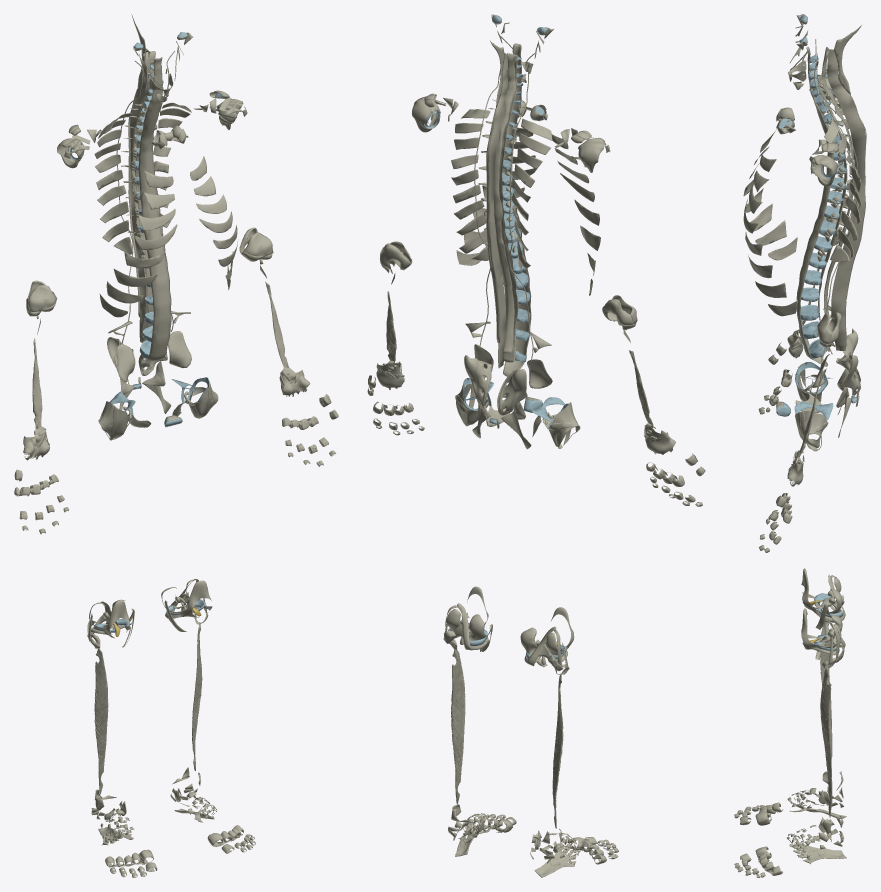
Rendered from joints.glb.
3 renders of one model, left to right at view 1: azimuth 30°, elevation 25°; view 2: azimuth 150°, elevation 25°; view 3: azimuth 270°, elevation 25°, orthographic. The views are drawn at different scales.
Parts seen in each view (by area): view 1: Anterior_longitudinal_ligament, External_intercostal_membrane_r, Internal_intercostal_membrane_r, External_intercostal_membrane_l, Interosseous_membrane_of_leg_r, Interspinous_ligaments, Internal_intercostal_membrane_l, Articular_capsule_of_elbow_joint_l, Interosseous_membrane_of_leg_l, Articular_capsule_of_elbow_joint_r, Anterior_sacro_iliac_ligament_l, Ligamenta_flava (+1 smaller); view 2: Internal_intercostal_membrane_l, Ligamenta_flava, Interspinous_ligaments, Internal_intercostal_membrane_r, Interosseous_membrane_of_leg_l, Anterior_longitudinal_ligament, External_intercostal_membrane_r, Posterior_longitudinal_ligament, Supraspinous_ligament, Posterior_sacro_iliac_ligament_r, External_intercostal_membrane_l, Posterior_sacro_iliac_ligament_l (+4 smaller); view 3: Interspinous_ligaments, External_intercostal_membrane_l, Internal_intercostal_membrane_l, Anterior_longitudinal_ligament, External_intercostal_membrane_r, Interosseous_membrane_of_leg_l, Ligamenta_flava, Articular_capsule_of_knee_joint_r, Posterior_longitudinal_ligament, Articular_capsule_of_knee_joint_l, Long_plantar_ligament_l, Articular_capsule_of_elbow_joint_l (+12 smaller).
Part boxes in pixels (bbox=[...]): Anterior_longitudinal_ligament: bbox=[138, 57, 171, 363]; External_intercostal_membrane_r: bbox=[99, 170, 177, 317]; Internal_intercostal_membrane_r: bbox=[94, 113, 132, 254]; External_intercostal_membrane_l: bbox=[190, 156, 238, 289]; Interosseous_membrane_of_leg_r: bbox=[94, 648, 108, 794]; Interspinous_ligaments: bbox=[130, 50, 149, 342]; Internal_intercostal_membrane_l: bbox=[153, 102, 191, 235]; Articular_capsule_of_elbow_joint_l: bbox=[239, 227, 272, 261]; Interosseous_membrane_of_leg_l: bbox=[192, 622, 202, 770]; Articular_capsule_of_elbow_joint_r: bbox=[27, 280, 56, 311]; Anterior_sacro_iliac_ligament_l: bbox=[167, 331, 191, 367]; Ligamenta_flava: bbox=[132, 51, 155, 335]; Internal_intercostal_membrane_l: bbox=[451, 109, 490, 260]; Ligamenta_flava: bbox=[494, 53, 515, 353]; Interspinous_ligaments: bbox=[488, 53, 508, 368]; Internal_intercostal_membrane_r: bbox=[512, 119, 552, 271]; Interosseous_membrane_of_leg_l: bbox=[451, 649, 465, 804]; Anterior_longitudinal_ligament: bbox=[502, 43, 531, 376]; External_intercostal_membrane_r: bbox=[551, 134, 600, 295]; Posterior_longitudinal_ligament: bbox=[499, 53, 518, 362]; Supraspinous_ligament: bbox=[486, 108, 500, 343]; Posterior_sacro_iliac_ligament_r: bbox=[497, 368, 527, 415]; External_intercostal_membrane_l: bbox=[456, 127, 537, 265]; Posterior_sacro_iliac_ligament_l: bbox=[464, 355, 491, 411]; Interspinous_ligaments: bbox=[826, 49, 865, 350]; External_intercostal_membrane_l: bbox=[743, 154, 797, 316]; Internal_intercostal_membrane_l: bbox=[824, 116, 861, 262]; Anterior_longitudinal_ligament: bbox=[796, 46, 833, 366]; External_intercostal_membrane_r: bbox=[743, 129, 797, 260]; Interosseous_membrane_of_leg_l: bbox=[820, 667, 832, 817]; Ligamenta_flava: bbox=[822, 47, 854, 320]; Articular_capsule_of_knee_joint_r: bbox=[801, 568, 844, 622]; Posterior_longitudinal_ligament: bbox=[816, 53, 847, 351]; Articular_capsule_of_knee_joint_l: bbox=[801, 608, 842, 655]; Long_plantar_ligament_l: bbox=[789, 843, 846, 864]; Articular_capsule_of_elbow_joint_l: bbox=[817, 312, 841, 343].
Size of the model in its own units: 0.6615 by 1.58 by 0.2308.
